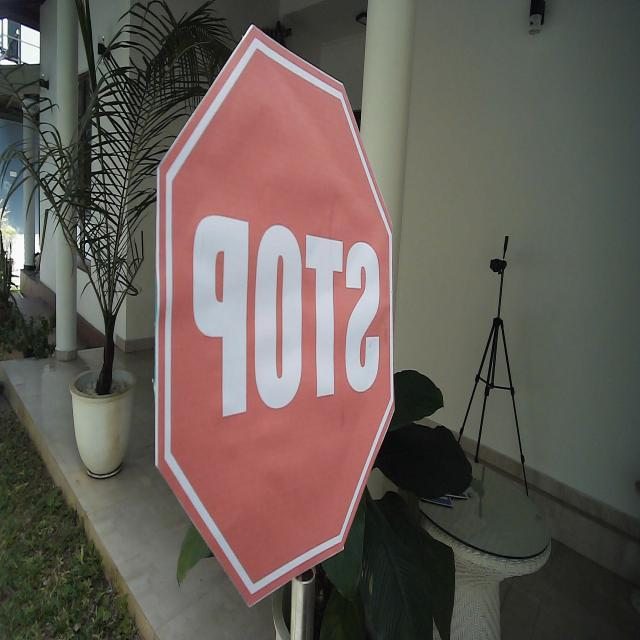stop: (152, 19, 396, 610)
